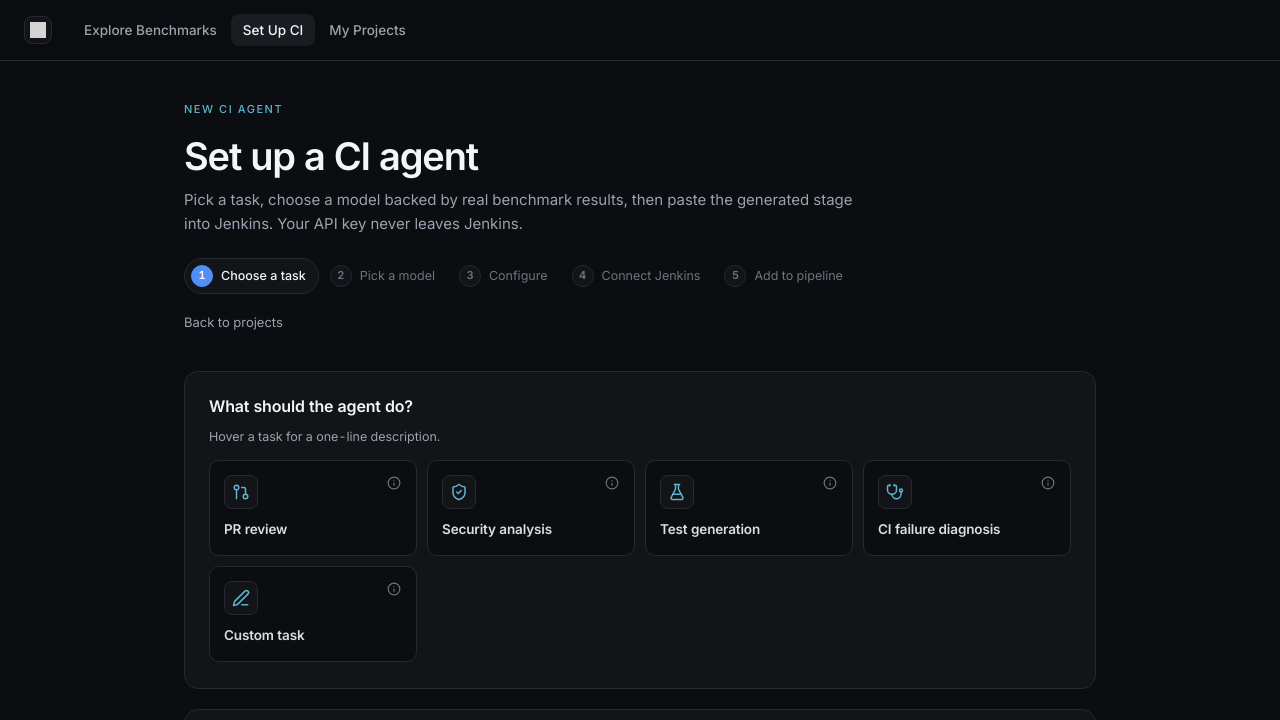
distinguishes an empty runnable set from missing scores
What coordinates should you click on to do the following:
click the radio button labelled "Security analysis"
I would click on:
 (459, 492)
Its box is [442, 475, 552, 537].
(page scrolled)
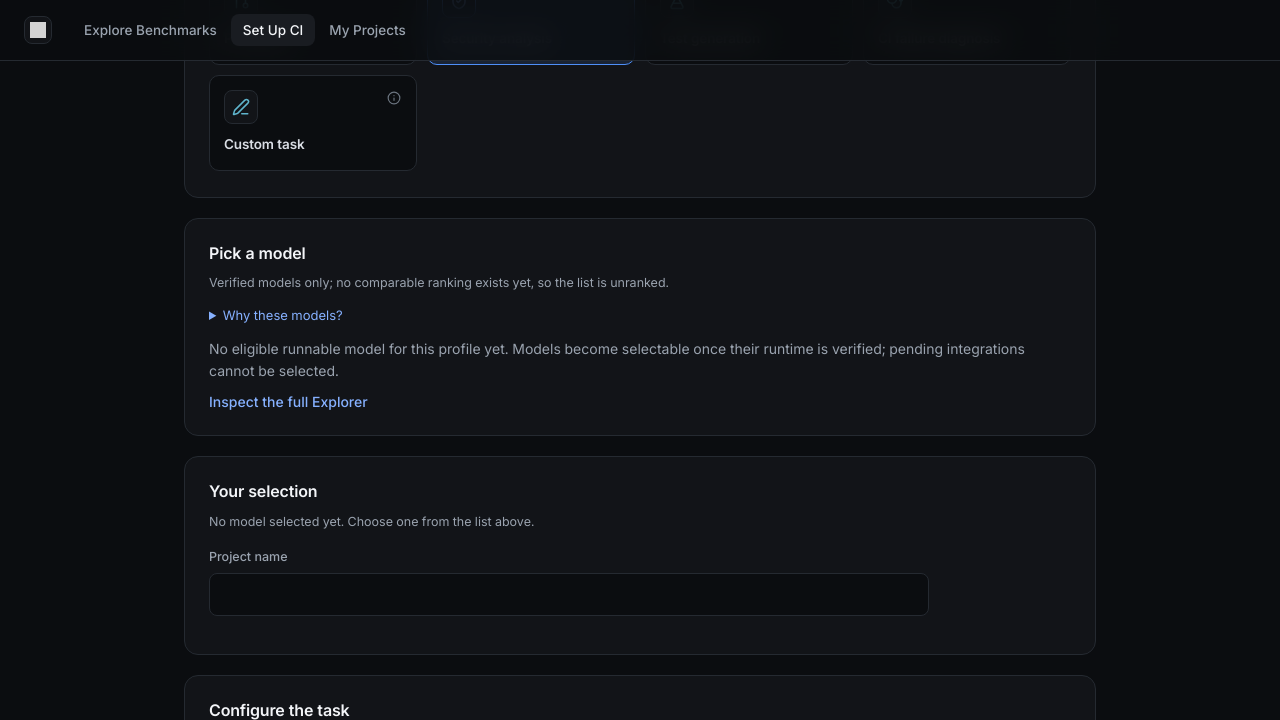
Result: the text "No eligible runnable model" is shown at [209, 340, 1025, 379]
